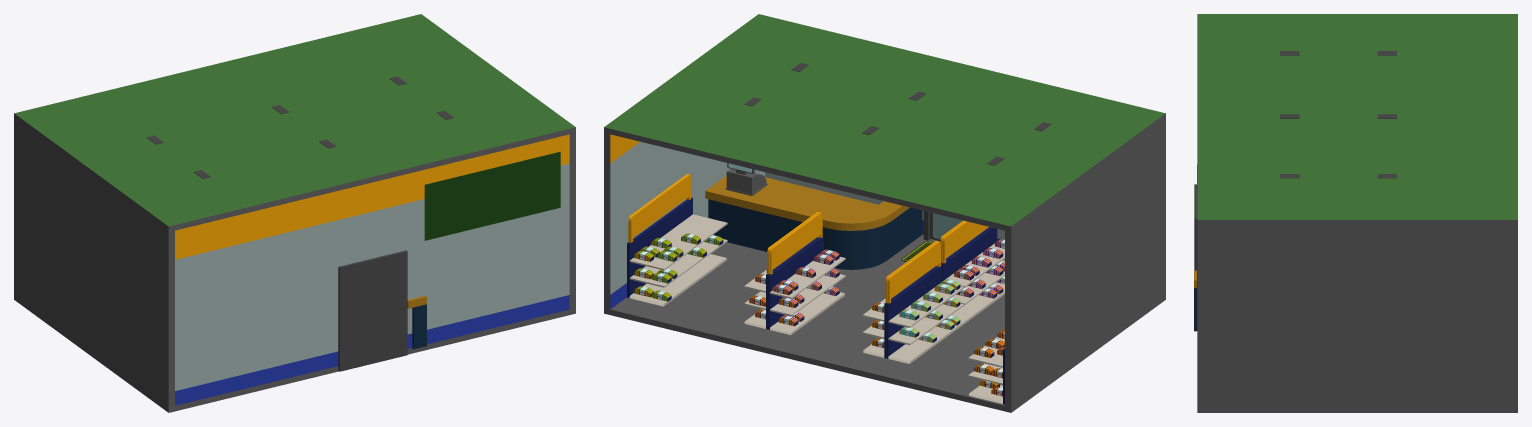
The model's file is Pichi-Pichi_Interior.fbx.
3 views of the same model, side by side, from view 1: azimuth 30°, elevation 25°; view 2: azimuth 150°, elevation 25°; view 3: azimuth 270°, elevation 25° (orthographic). The views are drawn at different scales.
Parts seen in each view (by area): view 1: Body.003, Menu, Main_Door.007, Counter; view 2: Body.003, Counter, Aisle_6, Aisle_5, Aisle_8, Aisle_3, Prop_Bread.206, Prop_Bread.072, Prop_Bread.133, Prop_Bread.081, Aisle_1, Aisle_4 (+4 smaller); view 3: Body.003.
Boxes of the visible parts, x1,y1,x2,y2 form: Body.003: [14, 14, 575, 412]; Menu: [424, 151, 560, 240]; Main_Door.007: [338, 250, 407, 371]; Counter: [407, 295, 426, 349]; Body.003: [604, 14, 1165, 412]; Counter: [705, 175, 922, 269]; Aisle_6: [627, 174, 727, 306]; Aisle_5: [886, 241, 963, 363]; Aisle_8: [768, 212, 845, 334]; Aisle_3: [941, 221, 1004, 323]; Prop_Bread.206: [634, 233, 723, 301]; Prop_Bread.072: [899, 279, 960, 342]; Prop_Bread.133: [772, 249, 839, 326]; Prop_Bread.081: [954, 239, 1004, 298]; Aisle_1: [968, 325, 1004, 404]; Aisle_4: [862, 240, 937, 358]; Body.003: [1197, 14, 1517, 412].
Size of the model in its own units: 1808 by 793 by 1202.
11 materials, 11 textured.
